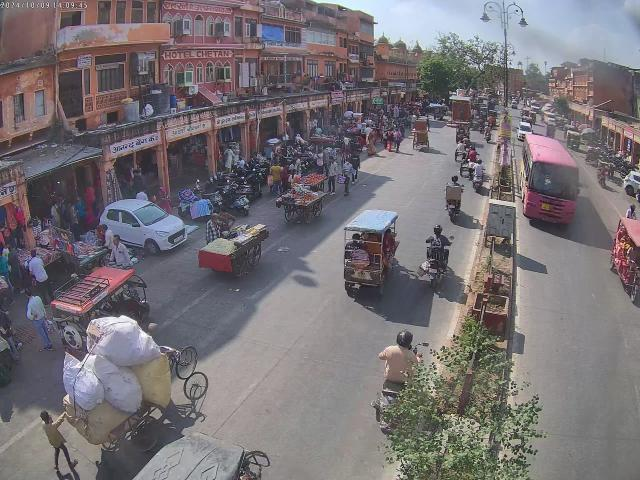auto: (46, 265, 152, 353), (340, 209, 400, 300), (610, 216, 640, 310), (452, 119, 470, 141)
bus: (520, 132, 582, 226)
car: (101, 198, 186, 252), (517, 122, 532, 142)
helmet: (394, 330, 414, 348), (432, 224, 443, 235), (451, 175, 458, 181)
license_plate: (542, 202, 550, 211)
motorbike-rider: (376, 330, 419, 398), (423, 224, 453, 285), (444, 176, 464, 221), (482, 126, 493, 142)
person: (197, 224, 270, 278), (38, 407, 78, 480), (26, 286, 53, 352), (214, 184, 251, 216), (24, 251, 48, 287), (110, 234, 131, 266), (268, 164, 284, 194), (130, 168, 146, 196), (223, 145, 236, 175), (69, 202, 80, 237), (134, 188, 152, 203)
rickshow: (62, 319, 200, 451), (411, 122, 431, 150)
scooty-rider: (470, 159, 489, 194), (454, 136, 470, 148)
vendor: (282, 192, 325, 226), (300, 170, 326, 192)
